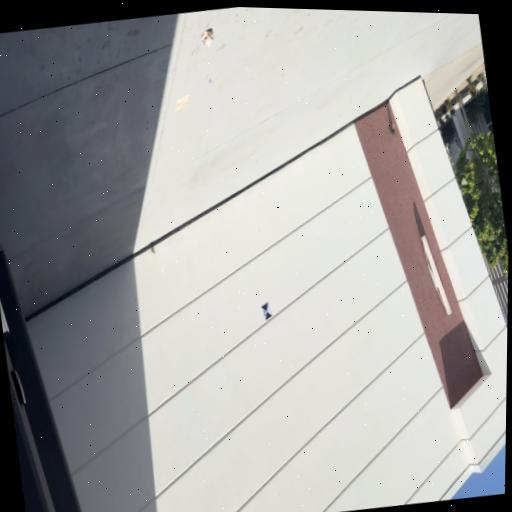target7: (261, 301, 272, 322)
